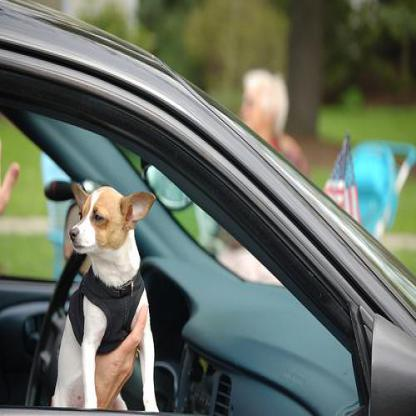dog: (54, 183, 170, 415)
